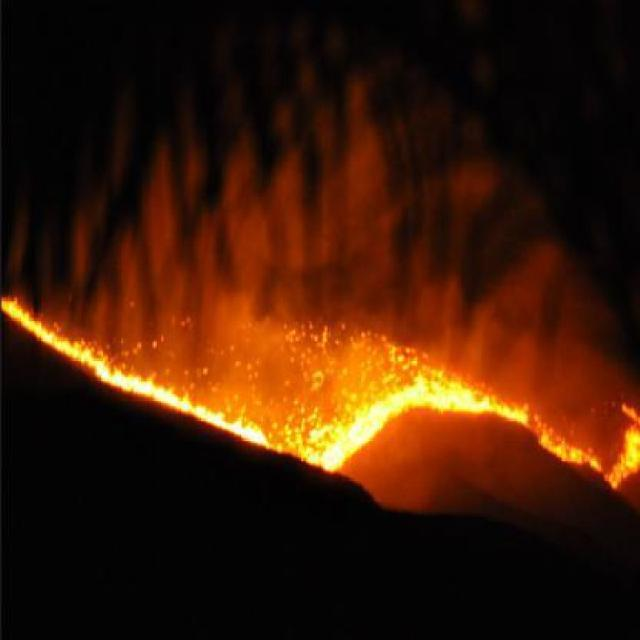Fire: (3, 290, 85, 355), (433, 376, 521, 422), (535, 413, 600, 469), (373, 382, 438, 416), (328, 406, 378, 444), (302, 442, 362, 470), (616, 400, 638, 474), (226, 418, 274, 446), (100, 359, 136, 392), (152, 376, 185, 412), (200, 406, 228, 428)
